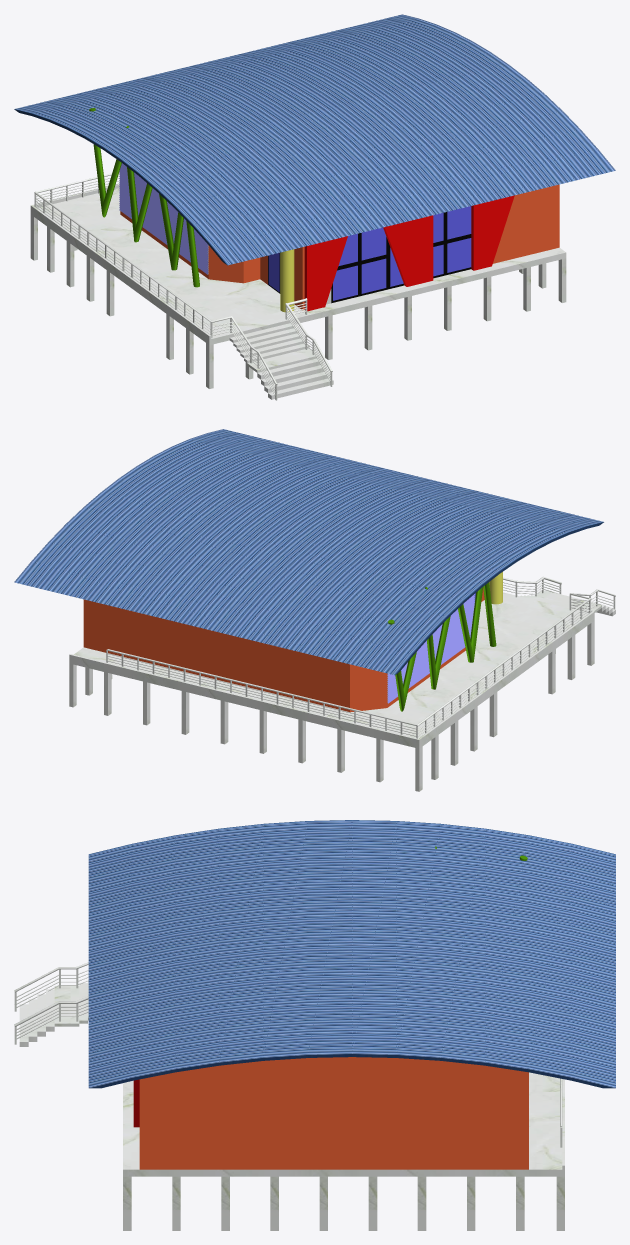
Rendered from Nhadanang.obj.
3 renders of one model, top to bottom at view 1: azimuth 30°, elevation 25°; view 2: azimuth 150°, elevation 25°; view 3: azimuth 270°, elevation 25°, orthographic. The views are drawn at different scales.
Visible parts, largest first — view 1: Mesh3 Group4 T_a__a_n_ng_1 Model, Mesh114 Group109 T_a__a_n_ng_1 Model, Mesh1 Group2 Group1 T_a__a_n_ng_1 Model, Mesh4 Group5 T_a__a_n_ng_1 Model, Mesh2 Group3 T_a__a_n_ng_1 Model, Mesh49 Group53 Group42 Group41 T_a__a_n_ng_1 Model, Mesh111 Component_29_1 Group108 T_a__a_n_ng_1 Model; view 2: Mesh3 Group4 T_a__a_n_ng_1 Model, Mesh1 Group2 Group1 T_a__a_n_ng_1 Model, Mesh114 Group109 T_a__a_n_ng_1 Model, Mesh4 Group5 T_a__a_n_ng_1 Model, Mesh44 Group48 Group42 Group41 T_a__a_n_ng_1 Model, Mesh49 Group53 Group42 Group41 T_a__a_n_ng_1 Model; view 3: Mesh3 Group4 T_a__a_n_ng_1 Model, Mesh114 Group109 T_a__a_n_ng_1 Model, Mesh1 Group2 Group1 T_a__a_n_ng_1 Model, Mesh111 Component_29_1 Group108 T_a__a_n_ng_1 Model.
Part boxes in pixels (x1,y1,x2,y2): Mesh3 Group4 T_a__a_n_ng_1 Model: (14, 14, 615, 265); Mesh114 Group109 T_a__a_n_ng_1 Model: (119, 163, 559, 311); Mesh1 Group2 Group1 T_a__a_n_ng_1 Model: (30, 184, 566, 345); Mesh4 Group5 T_a__a_n_ng_1 Model: (89, 108, 199, 287); Mesh2 Group3 T_a__a_n_ng_1 Model: (280, 249, 294, 312); Mesh49 Group53 Group42 Group41 T_a__a_n_ng_1 Model: (34, 191, 277, 384); Mesh111 Component_29_1 Group108 T_a__a_n_ng_1 Model: (247, 348, 319, 372); Mesh3 Group4 T_a__a_n_ng_1 Model: (14, 429, 603, 675); Mesh1 Group2 Group1 T_a__a_n_ng_1 Model: (69, 592, 594, 748); Mesh114 Group109 T_a__a_n_ng_1 Model: (83, 588, 484, 712); Mesh4 Group5 T_a__a_n_ng_1 Model: (388, 582, 496, 711); Mesh44 Group48 Group42 Group41 T_a__a_n_ng_1 Model: (107, 649, 416, 725); Mesh49 Group53 Group42 Group41 T_a__a_n_ng_1 Model: (416, 589, 615, 726); Mesh3 Group4 T_a__a_n_ng_1 Model: (88, 820, 615, 1088); Mesh114 Group109 T_a__a_n_ng_1 Model: (133, 1057, 528, 1169); Mesh1 Group2 Group1 T_a__a_n_ng_1 Model: (123, 1072, 564, 1176); Mesh111 Component_29_1 Group108 T_a__a_n_ng_1 Model: (54, 986, 79, 1026).
Size of the model in its own units: 33285 by 13020 by 35799.
Materials: 11 (2 with a texture image).
